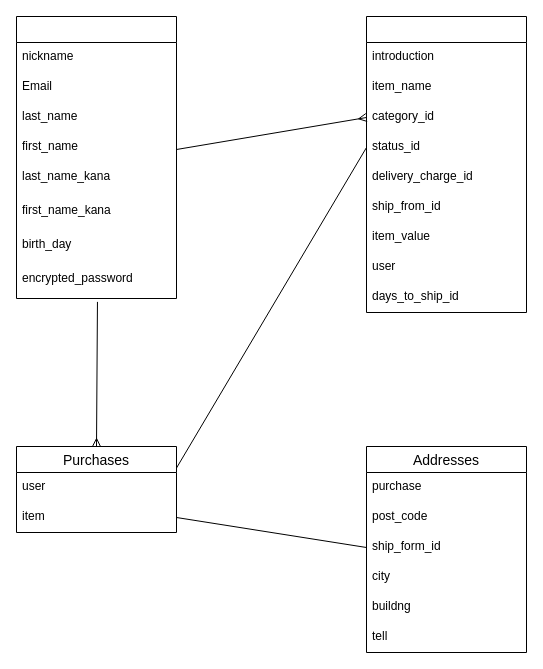
This 543x669 diagram has some shape labels left out. Here are the shapes that lost their labels. From the top down, the box of each, then its label:
(16, 16, 176, 298): Users
(366, 16, 526, 312): Items
